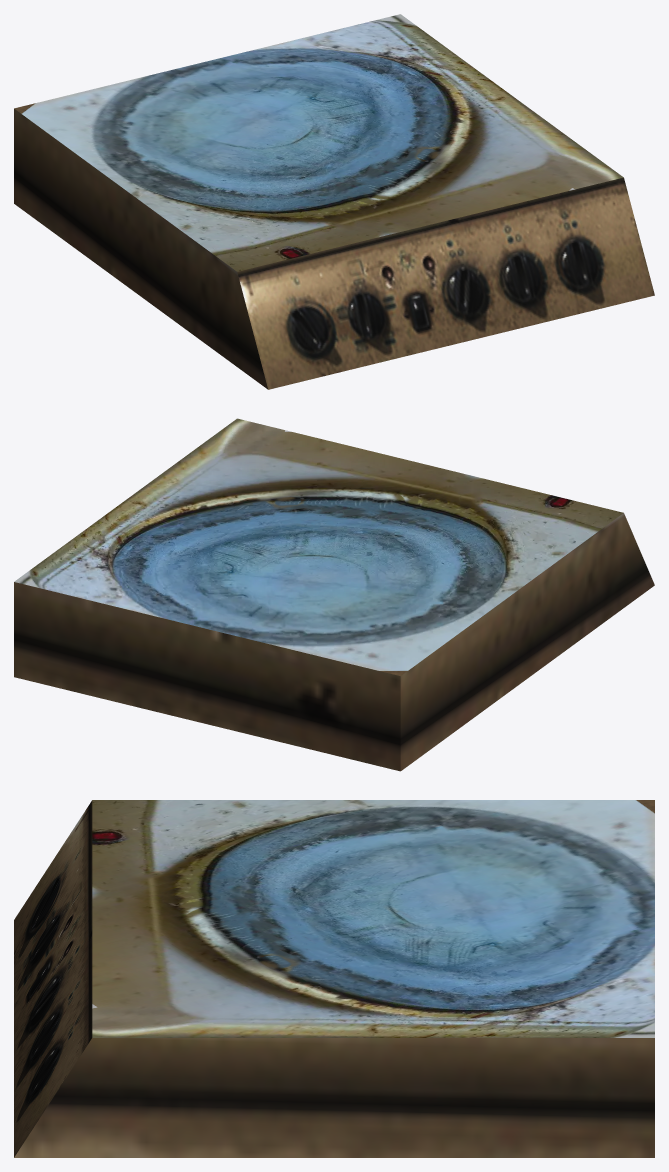
File: reso.glb
3 renders of one model, top to bottom at view 1: azimuth 30°, elevation 25°; view 2: azimuth 150°, elevation 25°; view 3: azimuth 270°, elevation 25°, orthographic. The views are drawn at different scales.
Parts seen in each view (by area): view 1: Cube; view 2: Cube; view 3: Cube.
Boxes of the visible parts, box(x1,y1,x2,y2) form: Cube: box(14, 14, 654, 389); Cube: box(14, 418, 654, 771); Cube: box(14, 800, 654, 1157).
Bounding box in the file's own units: 2 × 0.4708 × 2.28.
1 material, 1 textured.
